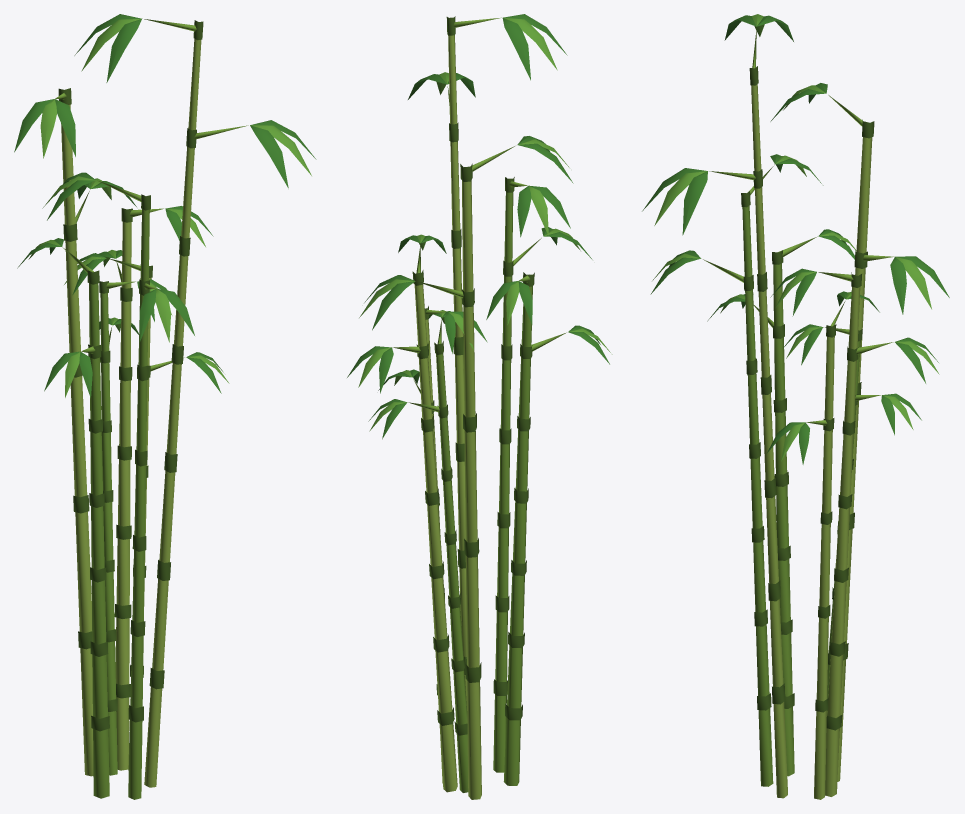
The model's file is bamboo-b.glb.
3 views of the same model, side by side, from view 1: azimuth 30°, elevation 25°; view 2: azimuth 150°, elevation 25°; view 3: azimuth 270°, elevation 25° (orthographic). The views are drawn at different scales.
Visible parts, largest first — view 1: bamboo-b; view 2: bamboo-b; view 3: bamboo-b.
Boxes of the visible parts, left/top/right/bottom form: bamboo-b: left=14, top=14, right=316, bottom=799; bamboo-b: left=347, top=14, right=612, bottom=799; bamboo-b: left=642, top=14, right=949, bottom=799.
Size of the model in its own units: 0.2883 by 0.89 by 0.3267.
